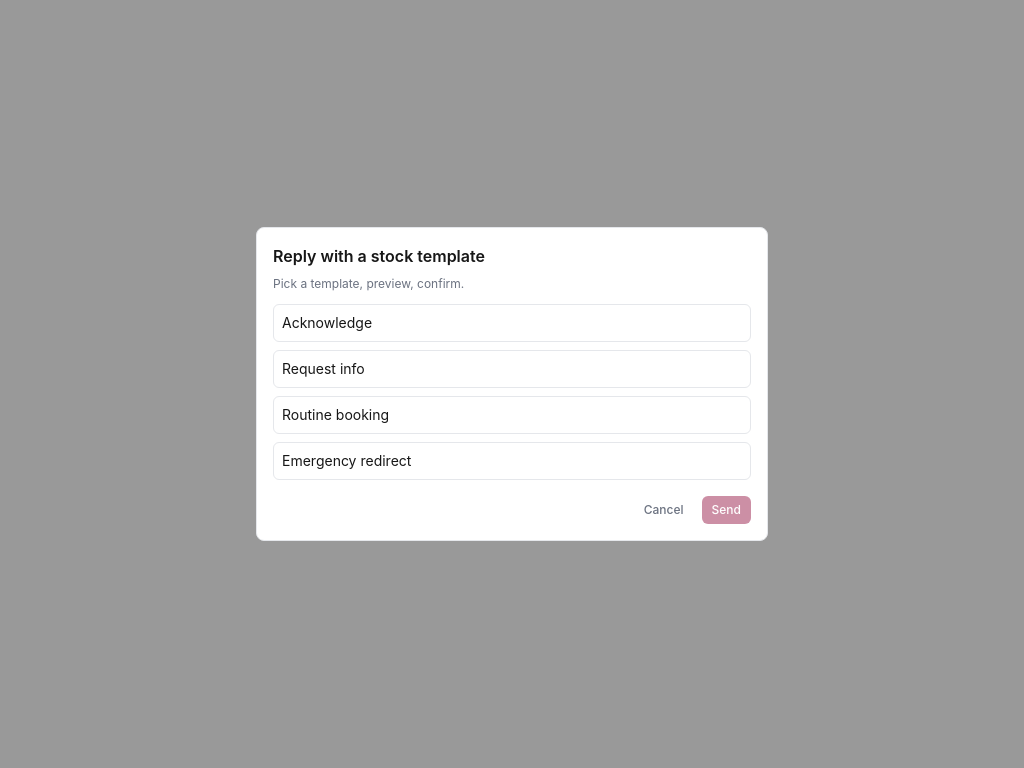
Test: StockReplyModal › disables Send until a template is selected
Expected: the button "Send" is disabled, [702, 496, 751, 524]
What coordinates should you click on to do the following:
click the button "Acknowledge"
I would click on:
 (327, 322)
Its box is [273, 304, 751, 342].
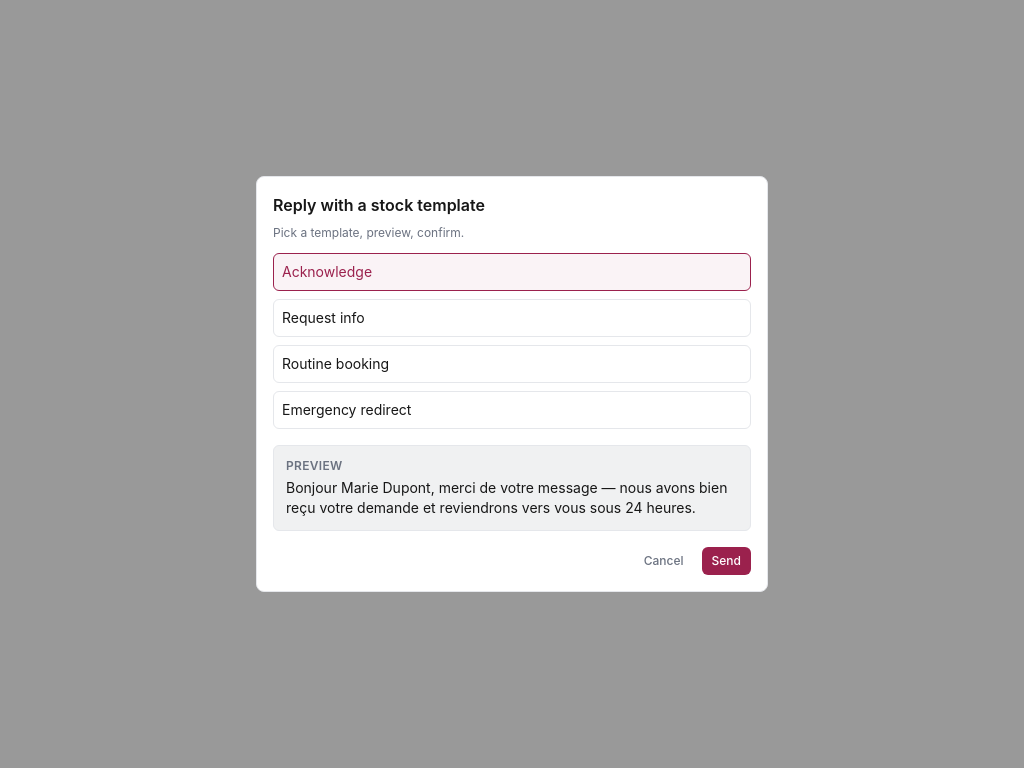
Expected: the button "Send" is enabled, [702, 547, 751, 575]
